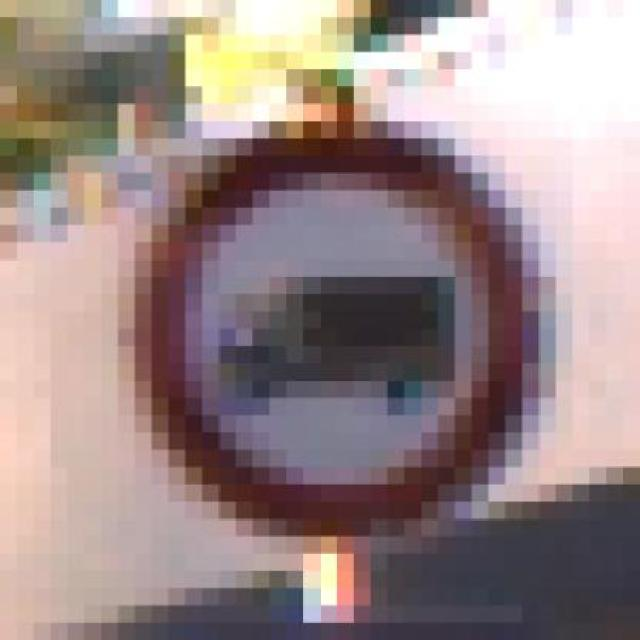Truck traffic is prohibited: (101, 69, 556, 571)
